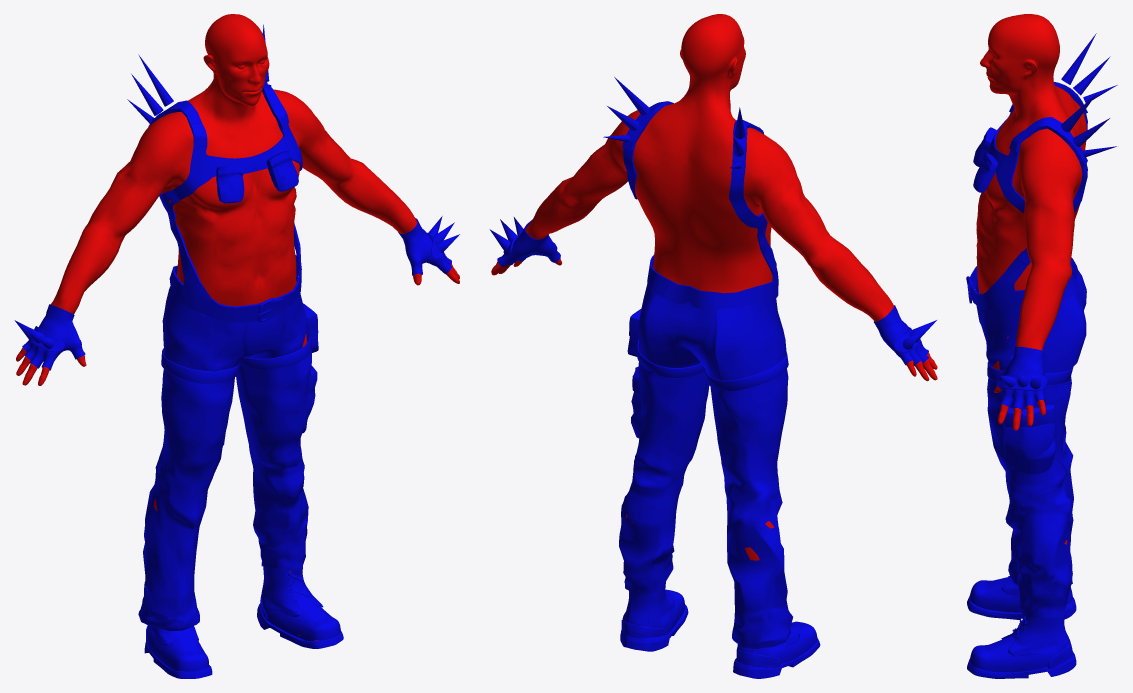
Rendered from SM_Boss.fbx.
3 renders of one model, left to right at view 1: azimuth 30°, elevation 25°; view 2: azimuth 150°, elevation 25°; view 3: azimuth 270°, elevation 25°, orthographic.
Parts seen in each view (by area): view 1: SM_WarboyBoss_Combine; view 2: SM_WarboyBoss_Combine; view 3: SM_WarboyBoss_Combine.
Boxes of the visible parts, x1=… form: SM_WarboyBoss_Combine: x1=14, y1=14, x2=459, y2=678; SM_WarboyBoss_Combine: x1=489, y1=14, x2=937, y2=678; SM_WarboyBoss_Combine: x1=966, y1=14, x2=1117, y2=678.
Size of the model in its own units: 135 by 185 by 40.96.
